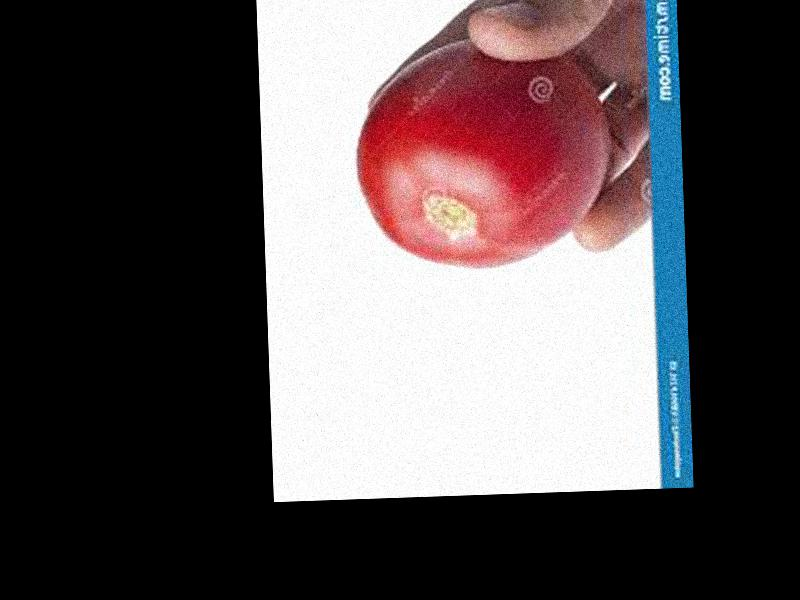Tomato: (353, 34, 613, 271)
